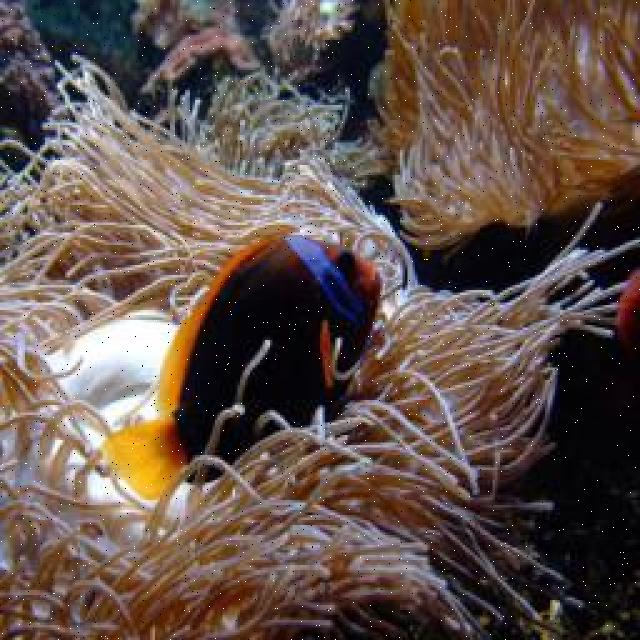fish: (101, 232, 385, 501)
reefs: (0, 53, 638, 638), (364, 0, 637, 250)
